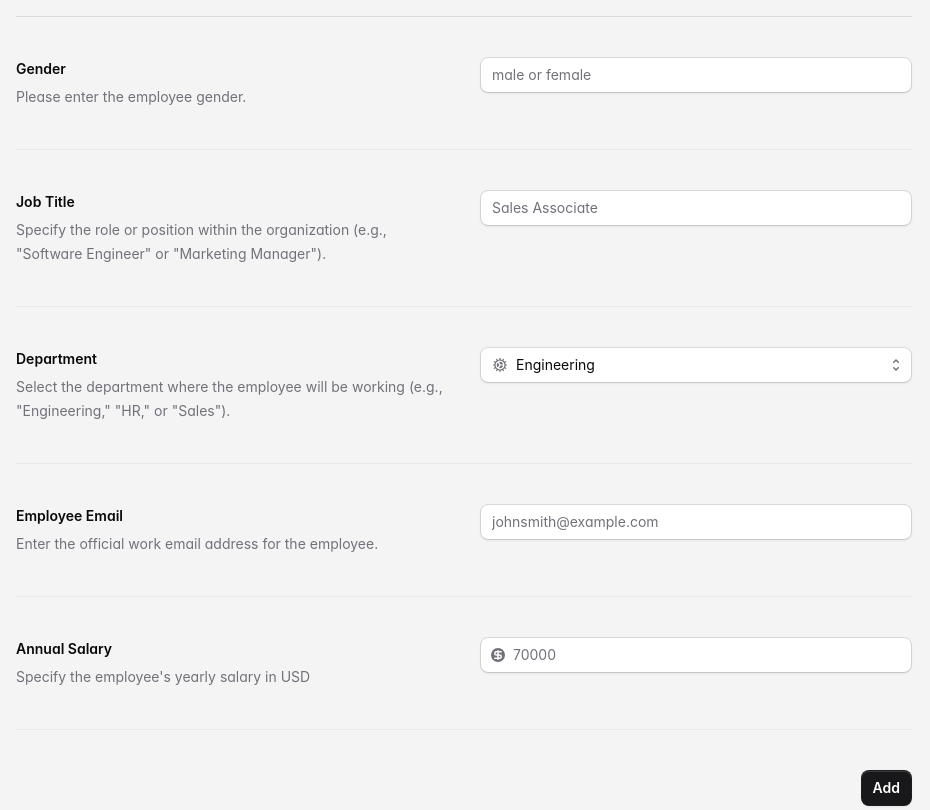
Test: CreateUserForm › shows validation errors on empty submit
(page scrolled)
Click the button "Add": (886, 788) x1=860 y1=770 x2=912 y2=806
(page scrolled)
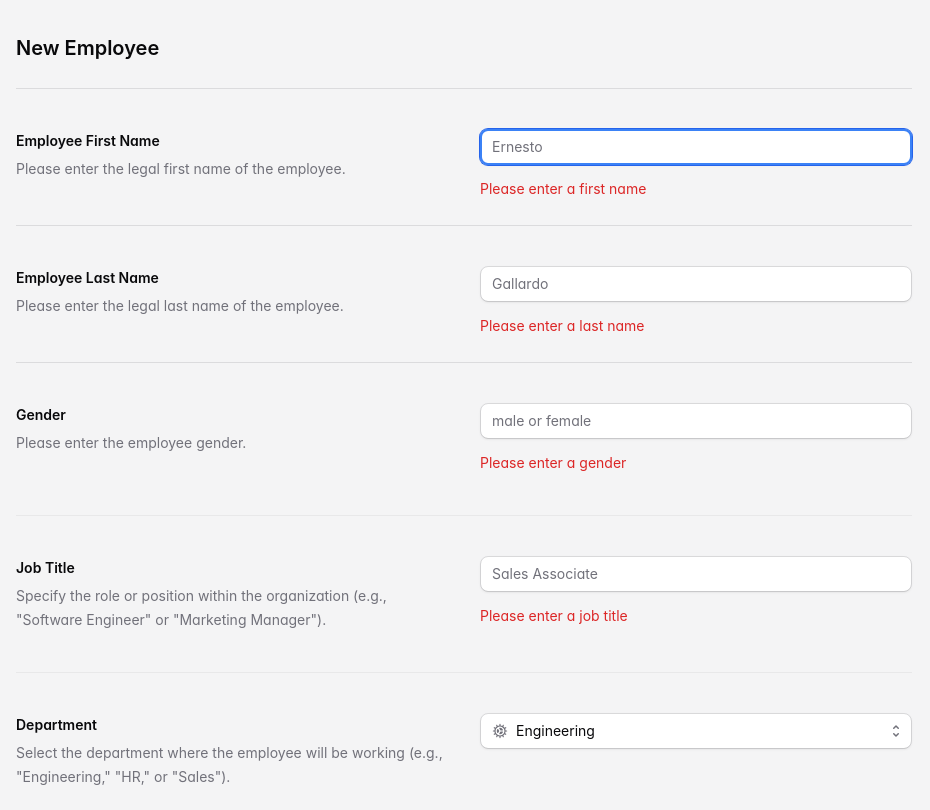
Expected: the text "Please enter a first name" is shown, x1=480 y1=180 x2=646 y2=197
Expected: the text "Please enter a last name" is shown, x1=480 y1=317 x2=644 y2=334
